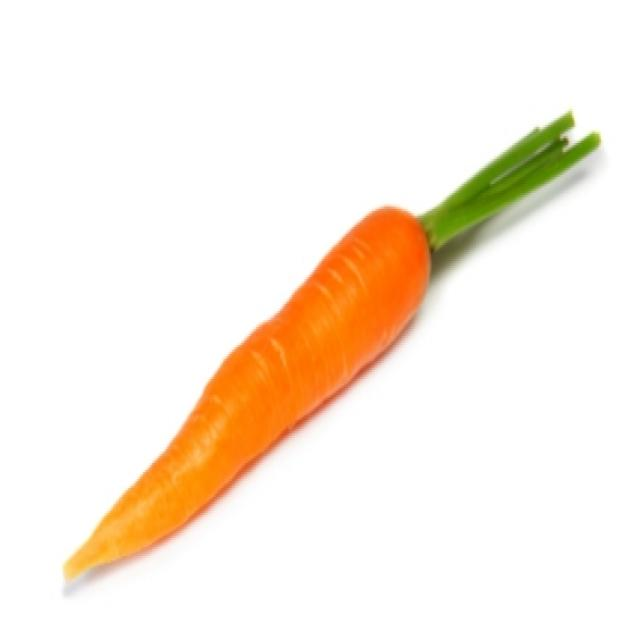Carrot: (62, 208, 435, 584)
